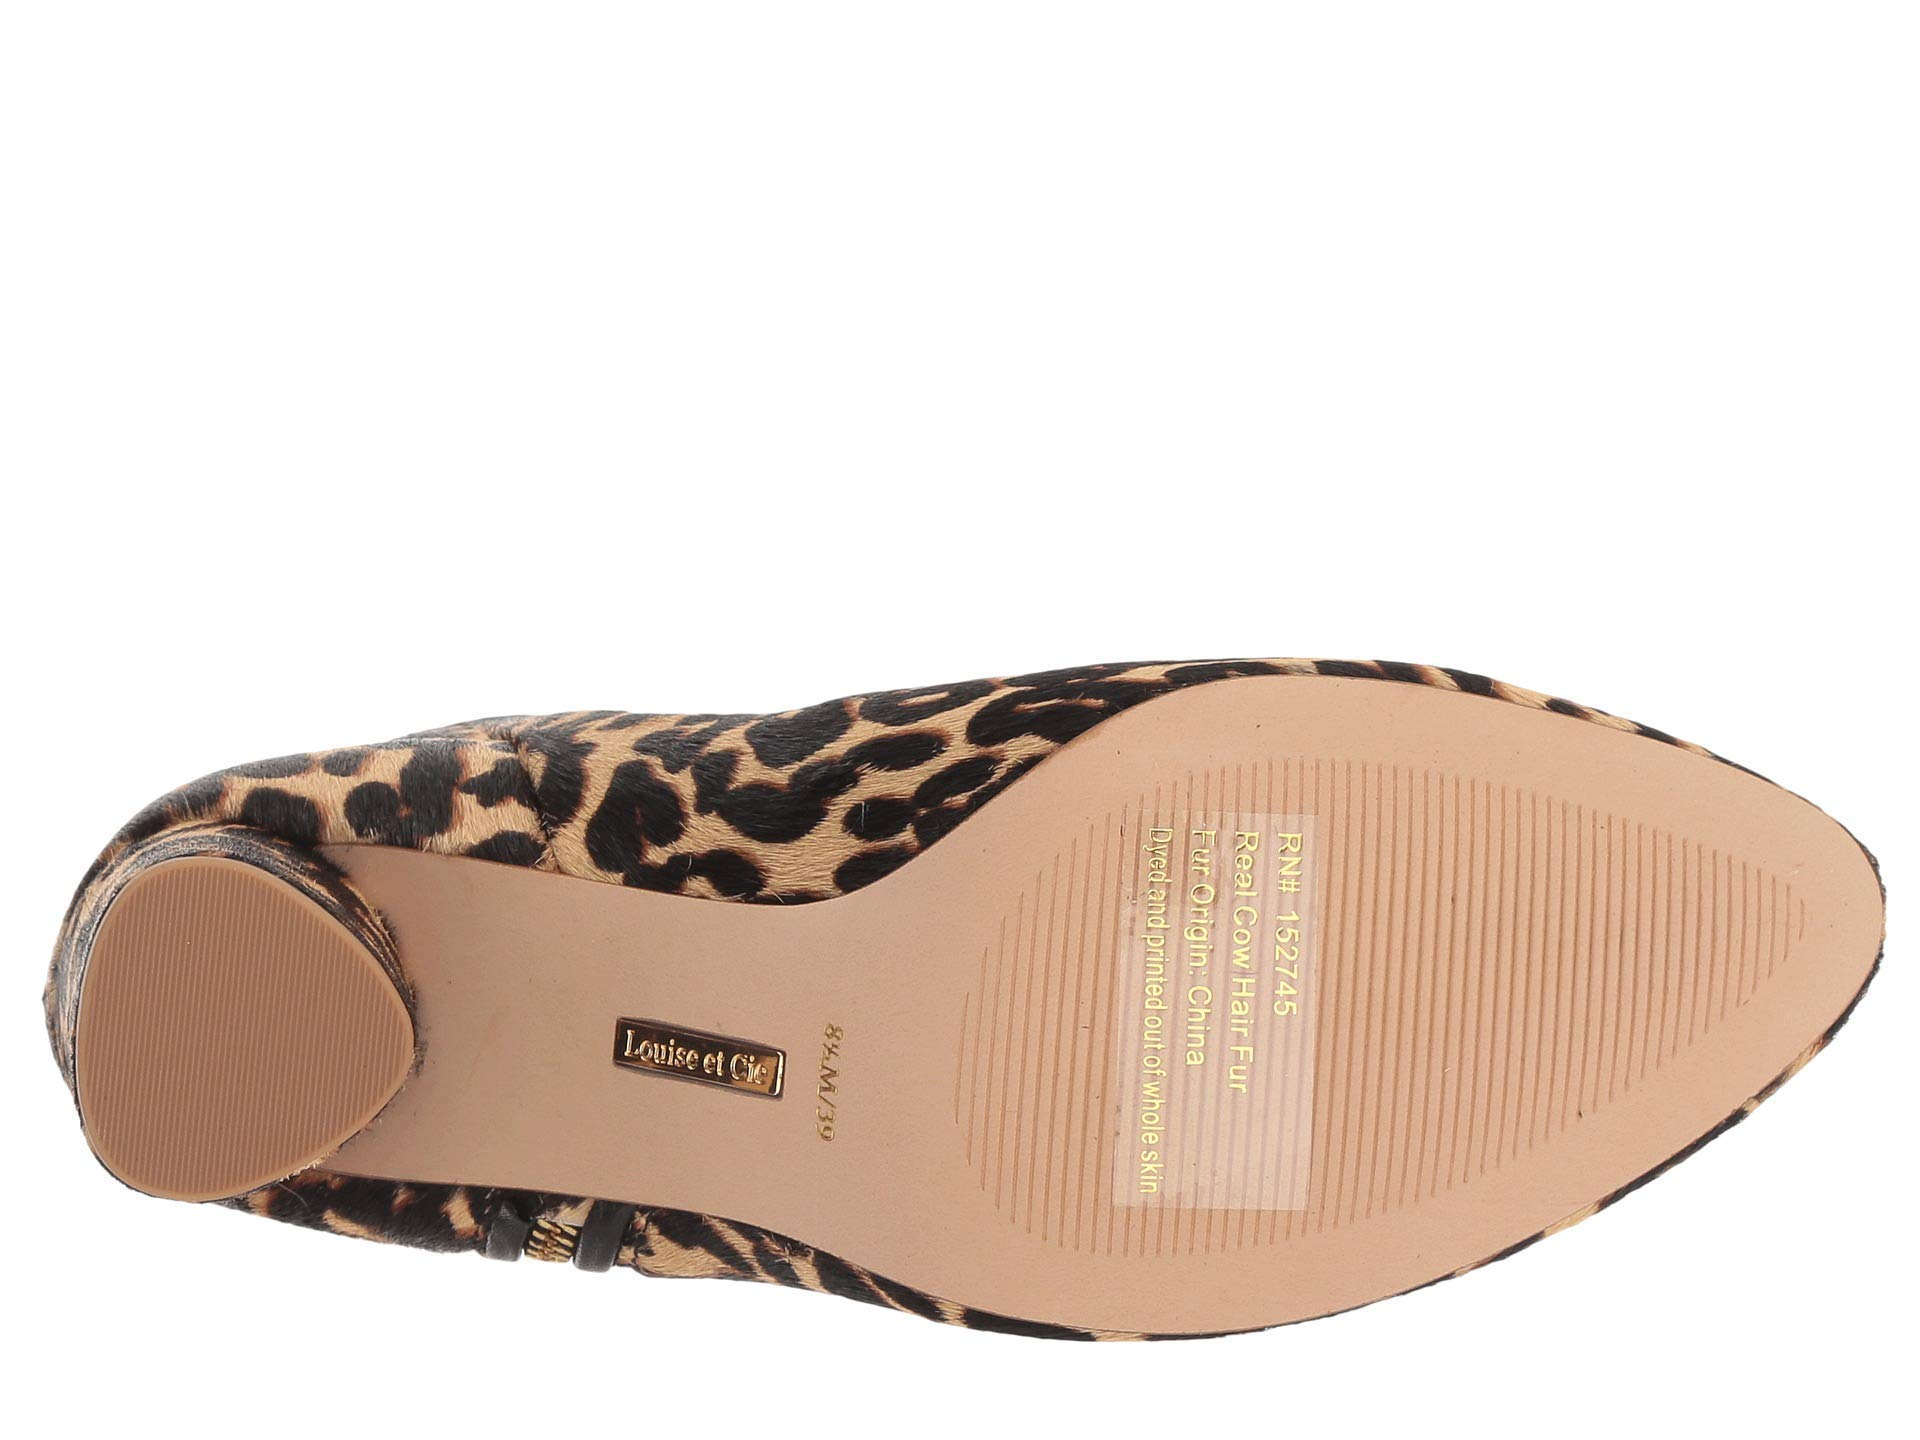exclude: (1113, 803, 1315, 1218)
line: (1382, 839, 1624, 1086)
